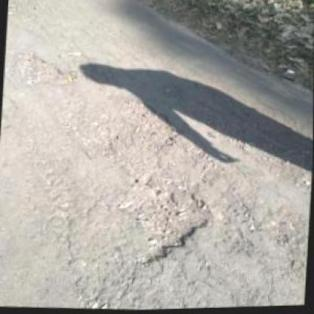Hueco: (114, 178, 214, 270), (108, 94, 181, 151), (14, 51, 66, 87)
